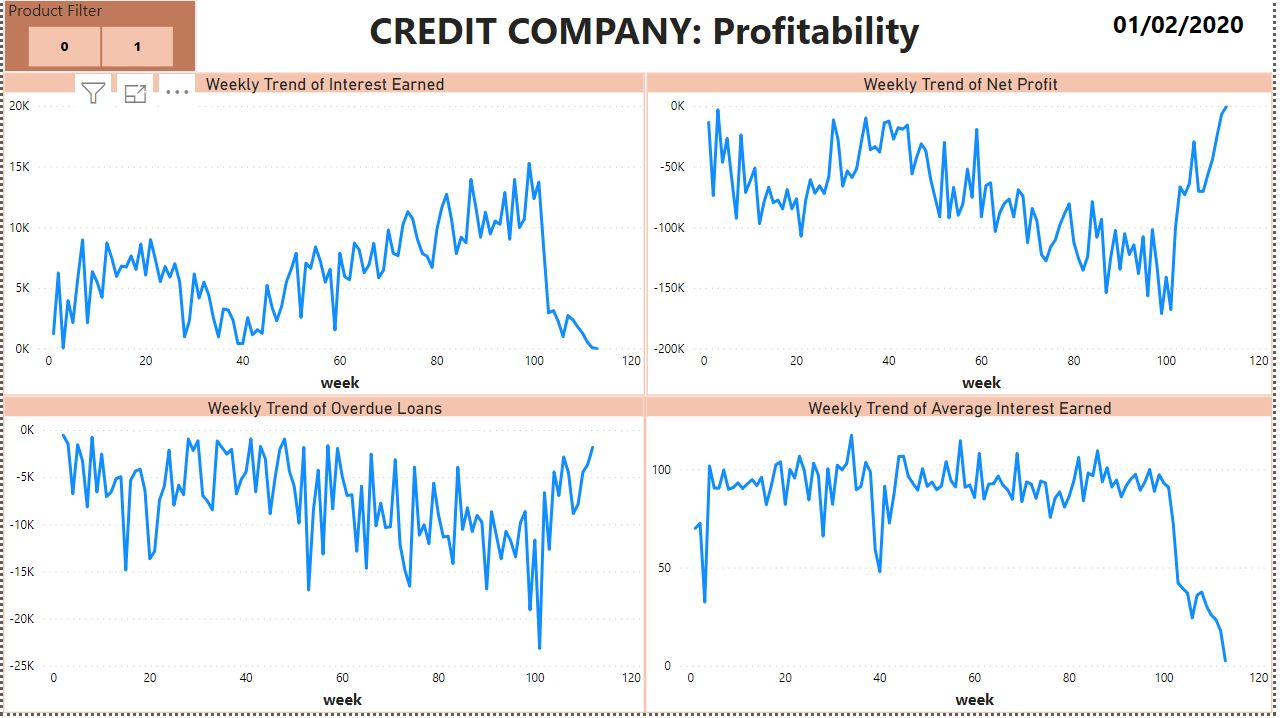

The dashboard page shown, as its layout file describes it:
{"tool":"powerbi","page":{"name":"Profitability","canvas":[1280,720],"ordinal":1},"visuals":[{"type":"textbox","box":[195.6,0,903.2,85.9],"z":0},{"type":"lineChart","title":"Weekly Trend of Interest Earned","fields":{"Category":["credit.week"],"Y":["credit.Total_profit"]},"box":[0,74.7,647.2,326],"z":1000},{"type":"textbox","box":[1090.8,3.2,189.2,54.1],"z":2000},{"type":"slicer","title":"Product Filter","fields":{"Values":["credit.product"]},"box":[0,0,195.6,74.7],"z":3000},{"type":"lineChart","title":"Weekly Trend of Net Profit","fields":{"Y":["credit.net_profit"],"Category":["credit.week"]},"box":[648.7,74.7,631.3,326],"z":4000},{"type":"lineChart","title":"Weekly Trend of Average Interest Earned","fields":{"Y":["credit.ave_Gross_profit"],"Category":["credit.week"]},"box":[647.2,400.7,632.8,319.6],"z":5000},{"type":"lineChart","title":"Weekly Trend of Overdue Loans","fields":{"Category":["credit.week"],"Y":["credit.Total_loss"]},"box":[0,400.7,647.2,319.6],"z":6000}]}

Visuals, with their boxes in screenshot pixels (x1, y1, x2, y2), scaled from the page's 1280x720 canvas onto the 1280x718 screenshot:
textbox: [x1=196, y1=0, x2=1099, y2=86]
"Weekly Trend of Interest Earned" lineChart: [x1=0, y1=74, x2=647, y2=400]
textbox: [x1=1091, y1=3, x2=1279, y2=57]
"Product Filter" slicer: [x1=0, y1=0, x2=196, y2=74]
"Weekly Trend of Net Profit" lineChart: [x1=649, y1=74, x2=1279, y2=400]
"Weekly Trend of Average Interest Earned" lineChart: [x1=647, y1=400, x2=1279, y2=717]
"Weekly Trend of Overdue Loans" lineChart: [x1=0, y1=400, x2=647, y2=717]
